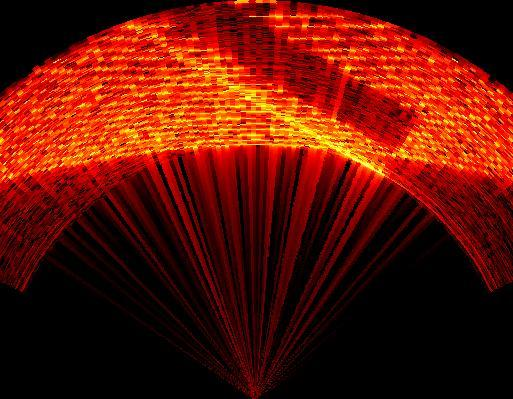pipe: (128, 5, 428, 178)
